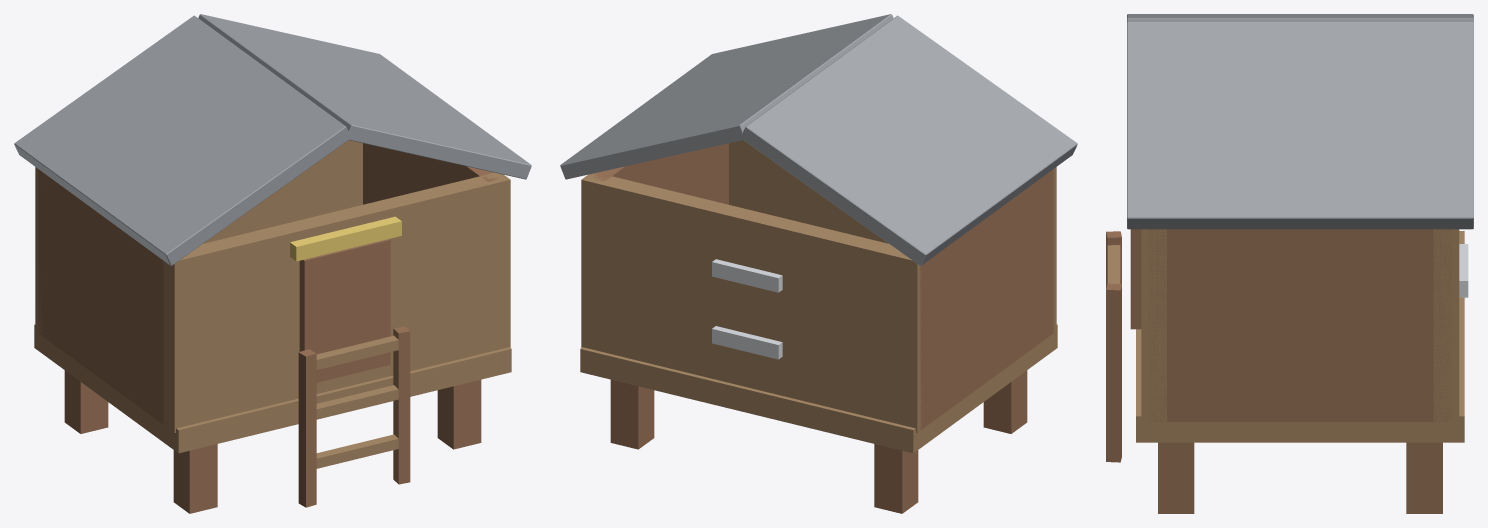
Rendered from granary.glb.
3 views of the same model, side by side, from view 1: azimuth 30°, elevation 25°; view 2: azimuth 150°, elevation 25°; view 3: azimuth 270°, elevation 25° (orthographic). The views are drawn at different scales.
Parts seen in each view (by area): view 1: floor_slab.003; view 2: floor_slab.003; view 3: floor_slab.003.
Boxes of the visible parts, x1=… form: floor_slab.003: x1=14, y1=14, x2=531, y2=513; floor_slab.003: x1=560, y1=14, x2=1077, y2=513; floor_slab.003: x1=1106, y1=14, x2=1473, y2=513.
Size of the model in its own units: 2.64 by 2.49 by 2.01.
